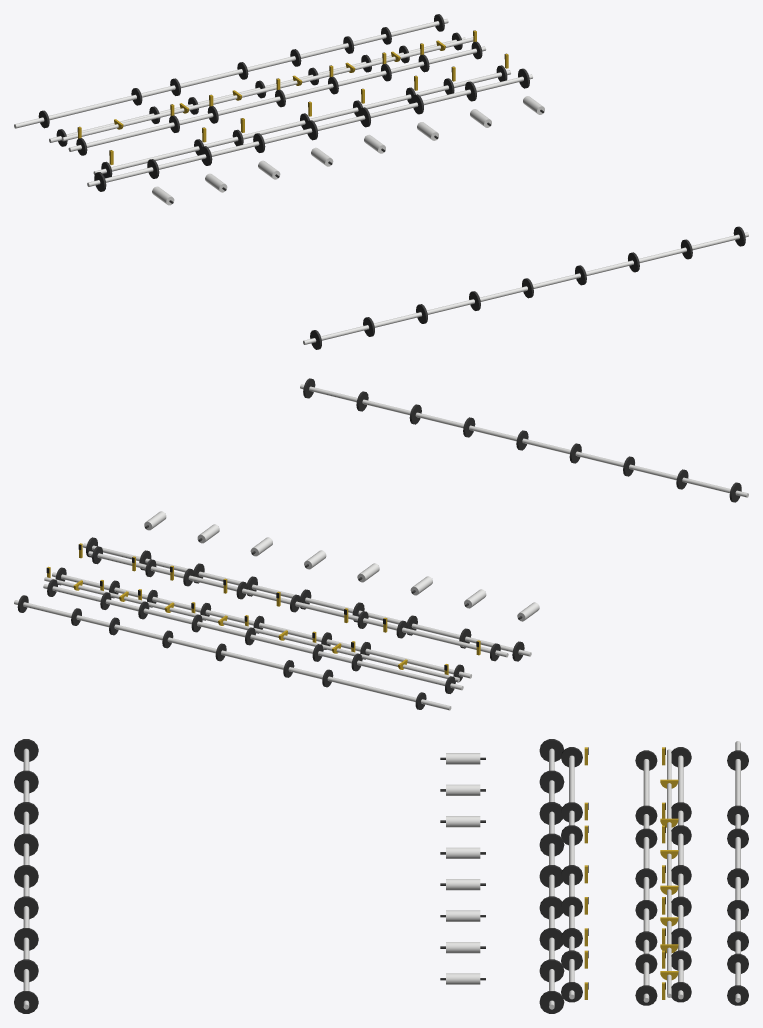
File: board_deck_parts.glb
3 renders of one model, top to bottom at view 1: azimuth 30°, elevation 25°; view 2: azimuth 150°, elevation 25°; view 3: azimuth 270°, elevation 25°, orthographic. The views are drawn at different scales.
Visible parts, largest first — view 1: BD_ScanHeadMesh, BD_ScanTailMesh, BD_LugTailMesh, BD_LugMidAMesh, BD_LugHeadMesh, BD_FlipperMesh, BD_LugMidBMesh; view 2: BD_ScanHeadMesh, BD_LugTailMesh, BD_LugMidBMesh, BD_ScanTailMesh, BD_LugHeadMesh, BD_LugMidAMesh, BD_FlipperMesh, BD_StopsEndMesh; view 3: BD_ScanHeadMesh, BD_ScanTailMesh, BD_LugMidAMesh, BD_LugTailMesh, BD_LugHeadMesh, BD_LugMidBMesh, BD_FlipperMesh, BD_StopsEndMesh, BD_StopsHalfMesh.
Part boxes in pixels (bbox=[...]): BD_ScanHeadMesh: bbox=[303, 226, 748, 349]; BD_ScanTailMesh: bbox=[87, 68, 532, 191]; BD_LugTailMesh: bbox=[14, 14, 448, 128]; BD_LugMidAMesh: bbox=[68, 41, 486, 155]; BD_LugHeadMesh: bbox=[93, 65, 510, 178]; BD_FlipperMesh: bbox=[61, 37, 473, 141]; BD_LugMidBMesh: bbox=[49, 32, 465, 146]; BD_ScanHeadMesh: bbox=[300, 378, 748, 502]; BD_LugTailMesh: bbox=[14, 595, 451, 710]; BD_LugMidBMesh: bbox=[43, 579, 463, 693]; BD_ScanTailMesh: bbox=[82, 537, 531, 661]; BD_LugHeadMesh: bbox=[88, 546, 508, 661]; BD_LugMidAMesh: bbox=[52, 567, 471, 682]; BD_FlipperMesh: bbox=[44, 577, 459, 681]; BD_StopsEndMesh: bbox=[78, 543, 480, 655]; BD_ScanHeadMesh: bbox=[14, 739, 38, 1013]; BD_ScanTailMesh: bbox=[539, 739, 564, 1013]; BD_LugMidAMesh: bbox=[635, 750, 657, 1005]; BD_LugTailMesh: bbox=[727, 741, 748, 1005]; BD_LugHeadMesh: bbox=[561, 747, 582, 1002]; BD_LugMidBMesh: bbox=[671, 747, 691, 1002]; BD_FlipperMesh: bbox=[660, 749, 678, 997]; BD_StopsEndMesh: bbox=[584, 747, 588, 999]; BD_StopsHalfMesh: bbox=[662, 747, 665, 999].
Bounding box in the file's own units: 5.53 × 0.279 × 6.52.
